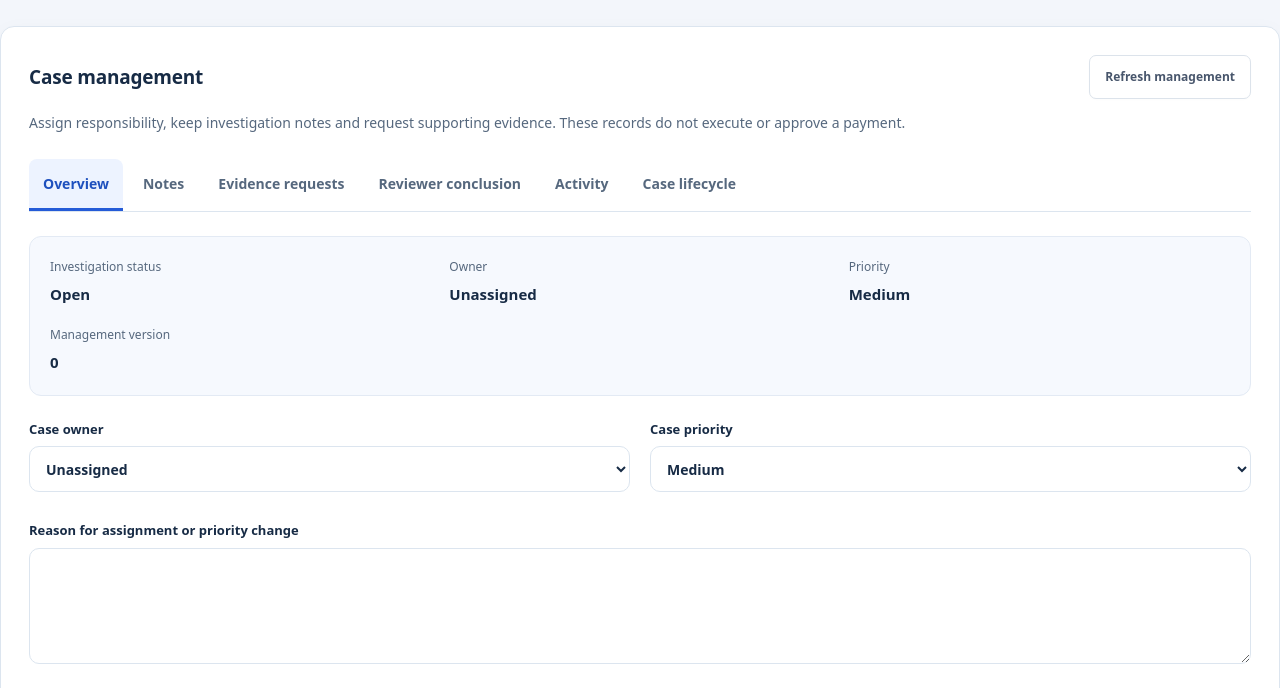
Test: payment case management › preserves the lifecycle draft and refreshes its state when reopening the tab
Expected: the text "Unassigned" is shown, [449, 284, 537, 304]
Click the tab "Case lifecycle": x=689, y=185 [629, 159, 750, 211]
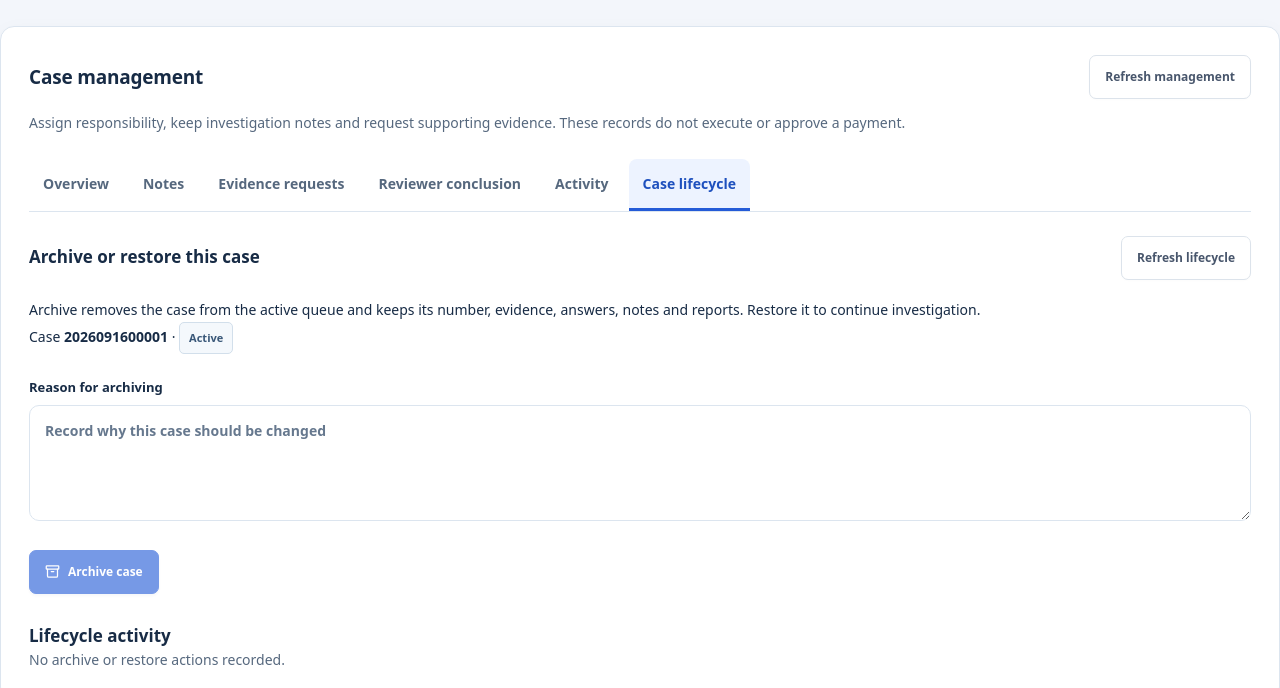
In the text box labelled "Reason for archiving": x=640, y=463 [29, 405, 1251, 521], type "Keep this archive draft"
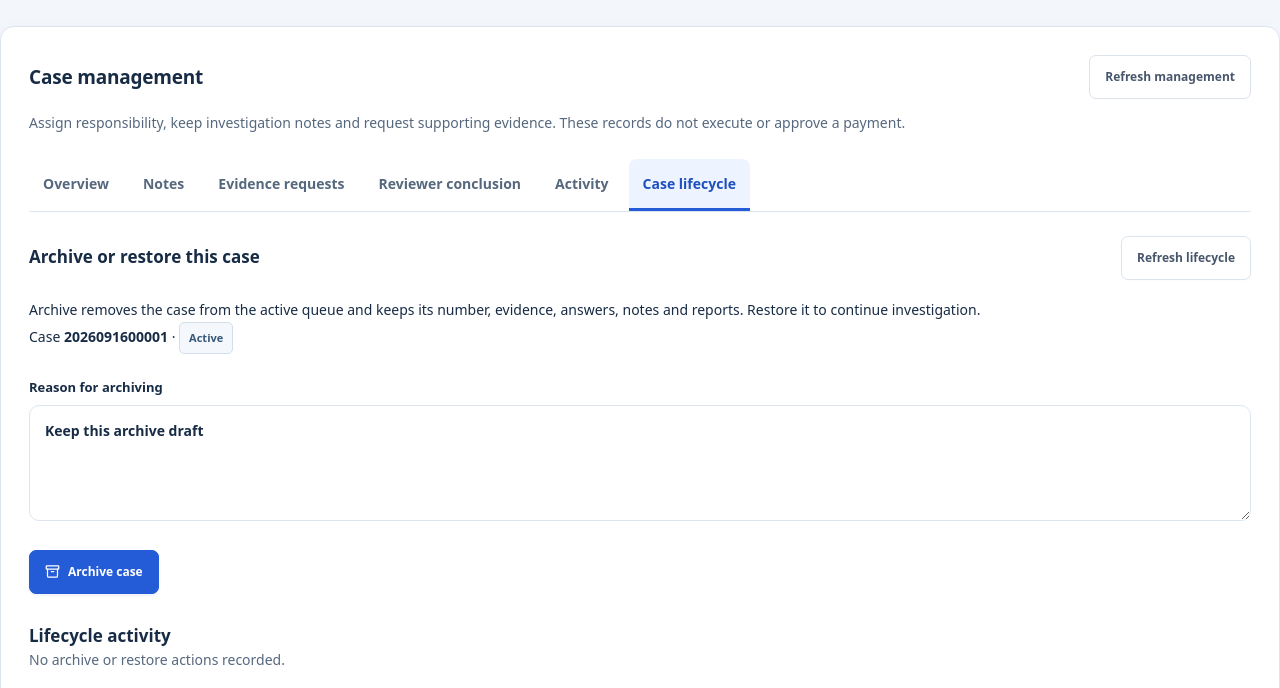
Click the tab "Notes": x=164, y=185 [129, 159, 198, 211]
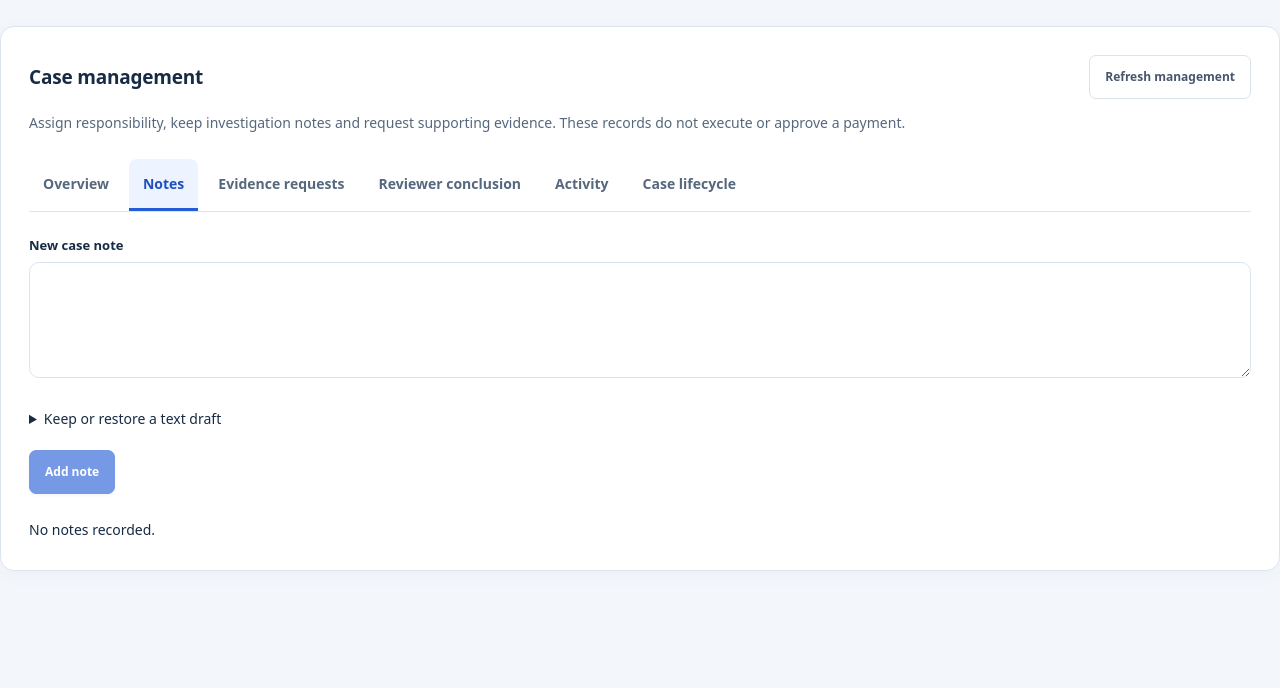
Click the tab "Case lifecycle": x=689, y=185 [629, 159, 750, 211]
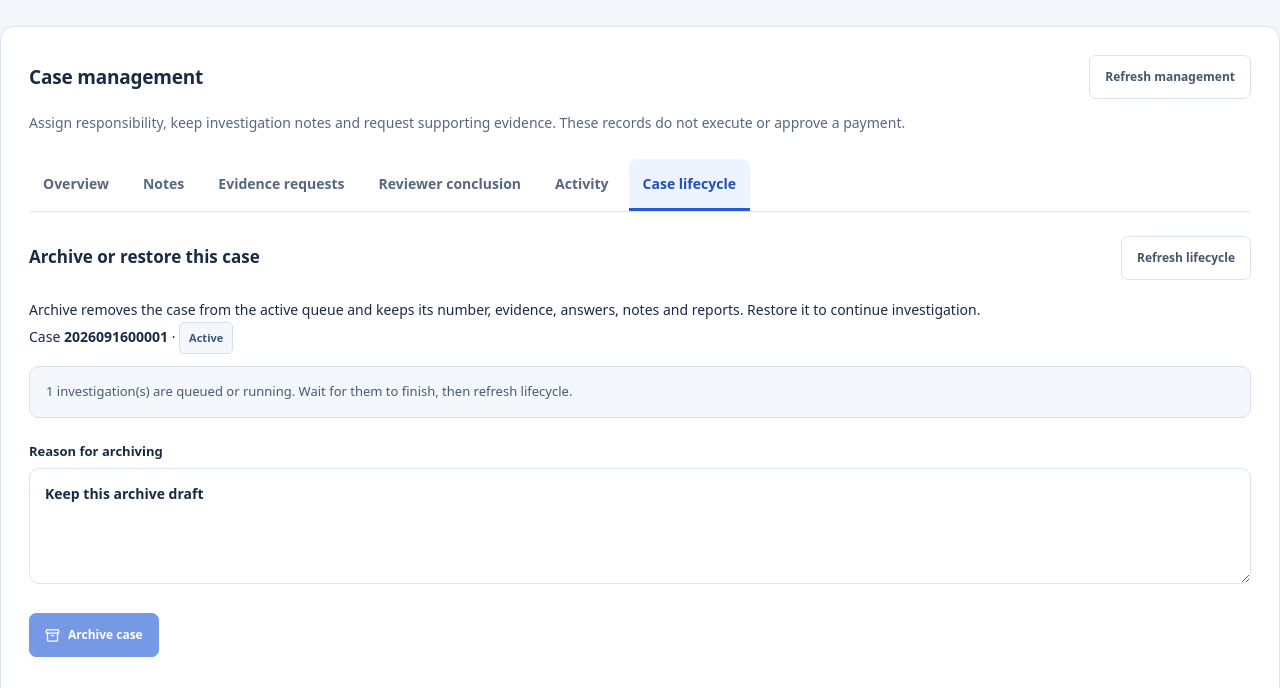
Result: the button "Archive case" is disabled at [29, 613, 159, 657]
Result: the text "Wait for them to finish" is shown at [53, 382, 572, 400]
